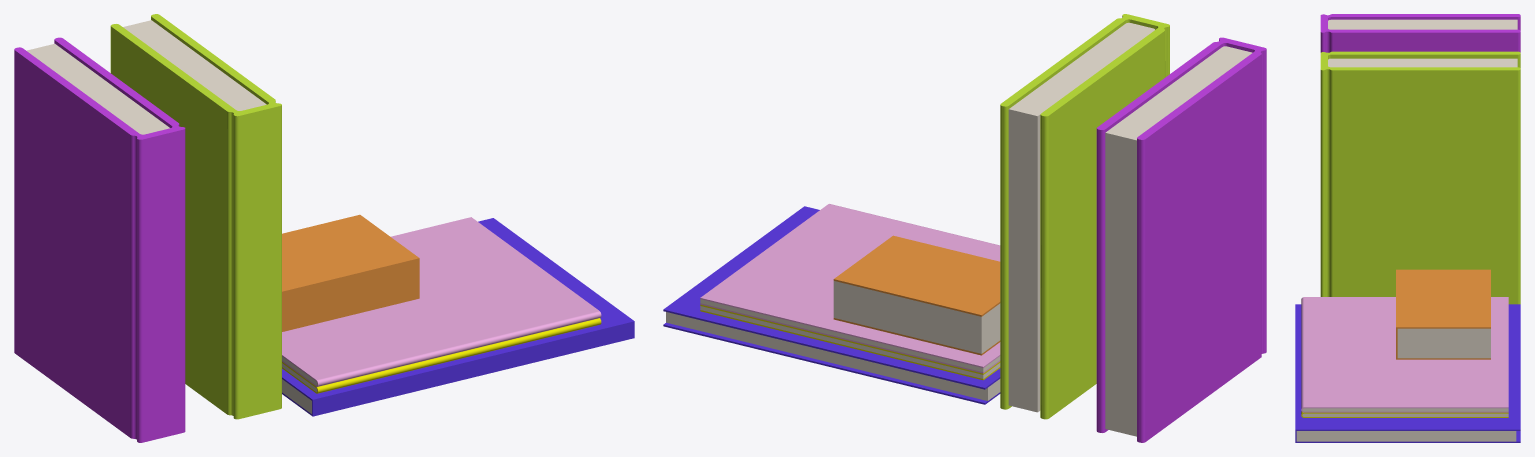
Rendered from StaticBook.glb.
3 renders of one model, left to right at view 1: azimuth 30°, elevation 25°; view 2: azimuth 150°, elevation 25°; view 3: azimuth 270°, elevation 25°, orthographic. The views are drawn at different scales.
Parts seen in each view (by area): view 1: Book1, Book3, Comic2, Manga1, PaperBackBook, StaticPages, Comic1; view 2: Book1, StaticPages, Book3, Comic2, Manga1, PaperBackBook, Comic1; view 3: Book3, Comic2, StaticPages, Manga1, Book1, PaperBackBook, Comic1.
Boxes of the visible parts, x1,y1,x2,y2 form: Book1: [14, 37, 185, 442]; Book3: [110, 14, 281, 419]; Comic2: [282, 217, 601, 386]; Manga1: [282, 214, 419, 331]; PaperBackBook: [282, 218, 634, 416]; StaticPages: [26, 20, 317, 413]; Comic1: [282, 318, 601, 393]; Book1: [1096, 37, 1266, 442]; StaticPages: [666, 22, 1252, 436]; Book3: [1000, 14, 1169, 419]; Comic2: [700, 204, 1000, 373]; Manga1: [833, 235, 1000, 355]; PaperBackBook: [663, 206, 1000, 404]; Comic1: [700, 304, 1000, 380]; Book3: [1320, 51, 1520, 304]; Comic2: [1301, 297, 1508, 412]; StaticPages: [1296, 19, 1517, 441]; Manga1: [1396, 269, 1490, 359]; Book1: [1320, 14, 1520, 52]; PaperBackBook: [1295, 304, 1520, 442]; Comic1: [1301, 411, 1508, 417].
Size of the model in its own units: 7.46 by 4.5 by 3.8.
